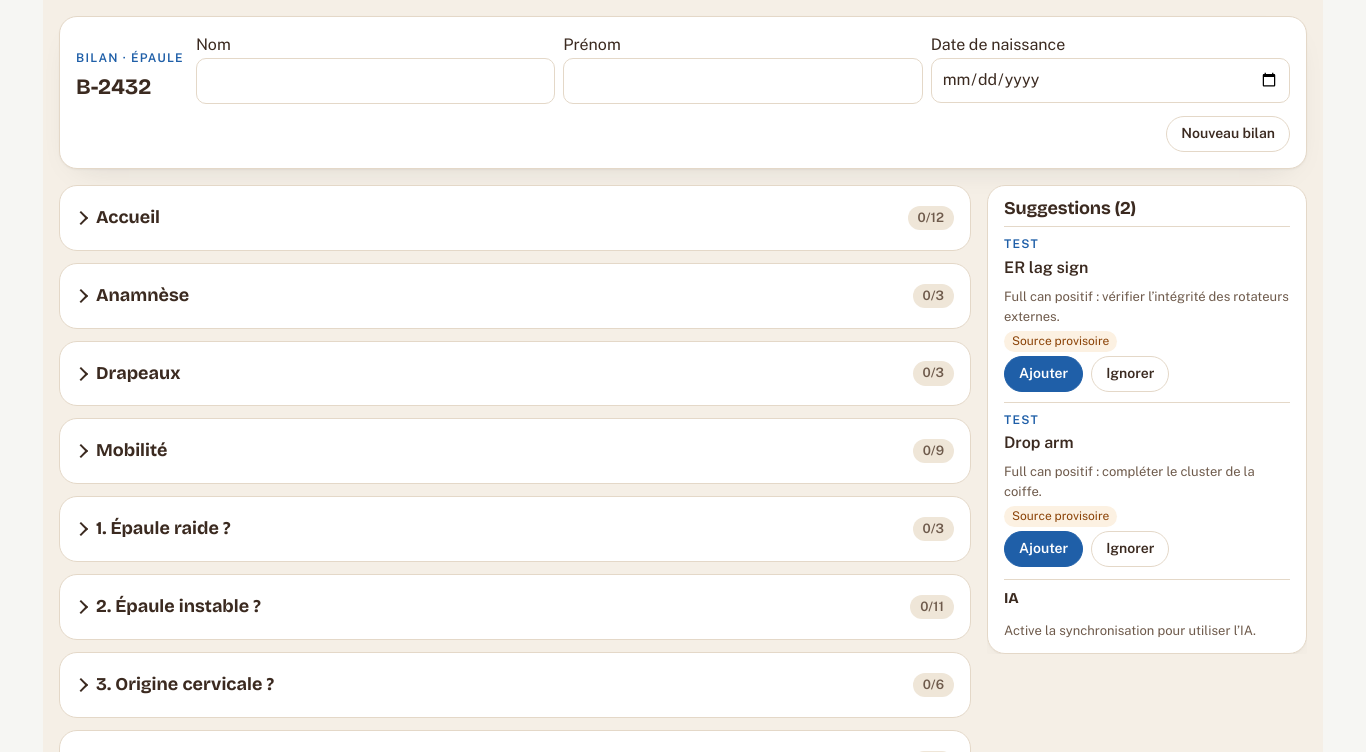
écran de bilan › suggestions : full can positif → ER lag et Drop arm ; Ignorer la retire
This screenshot has width=1366, height=752.
Earlier steps of the test are not shown.
Check: the text "ER lag sign" is shown, box [1004,258,1088,277]
Check: the text "Drop arm" is shown, box [1004,433,1074,452]
Click the button with aria-label "Ignorer Drop arm" at (1130, 549), box [1091,531,1170,567]
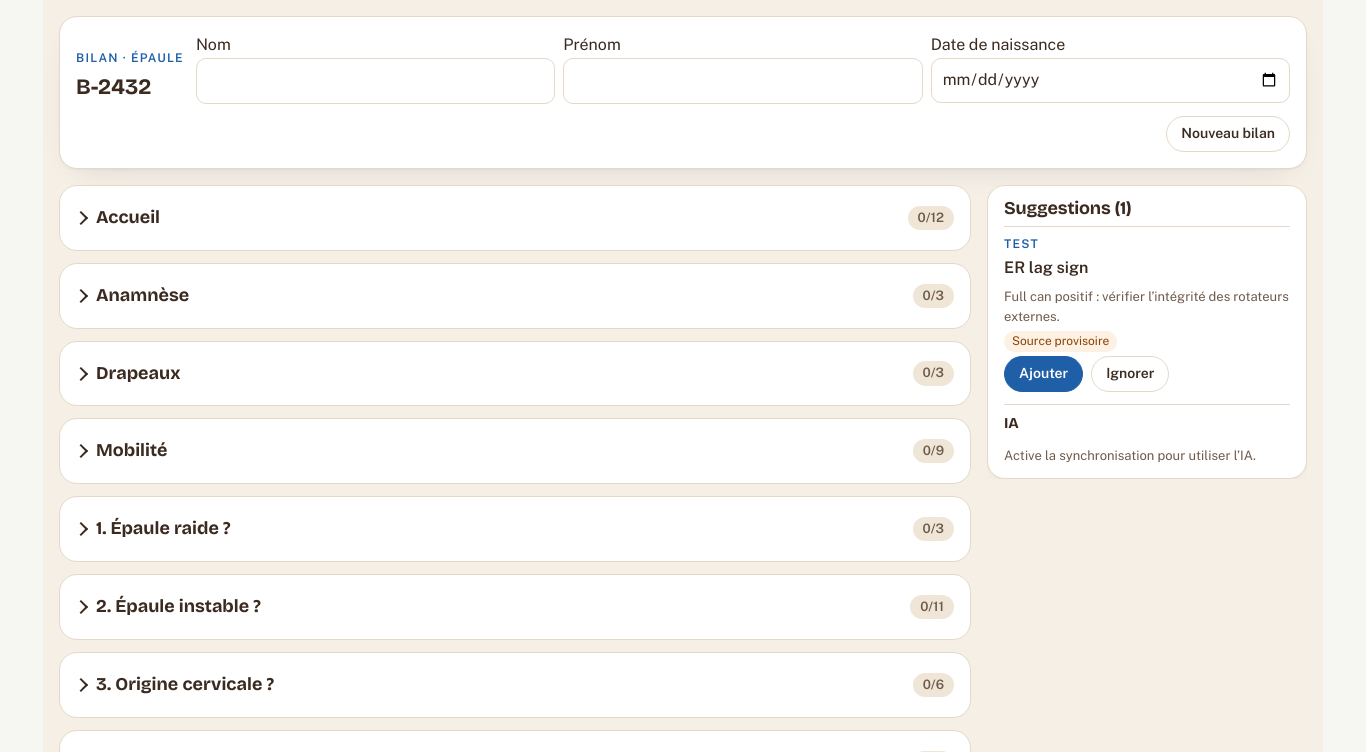
Check: the text "ER lag sign" is shown, box [1004,258,1088,277]
Check: the text "Drop arm" is gone
